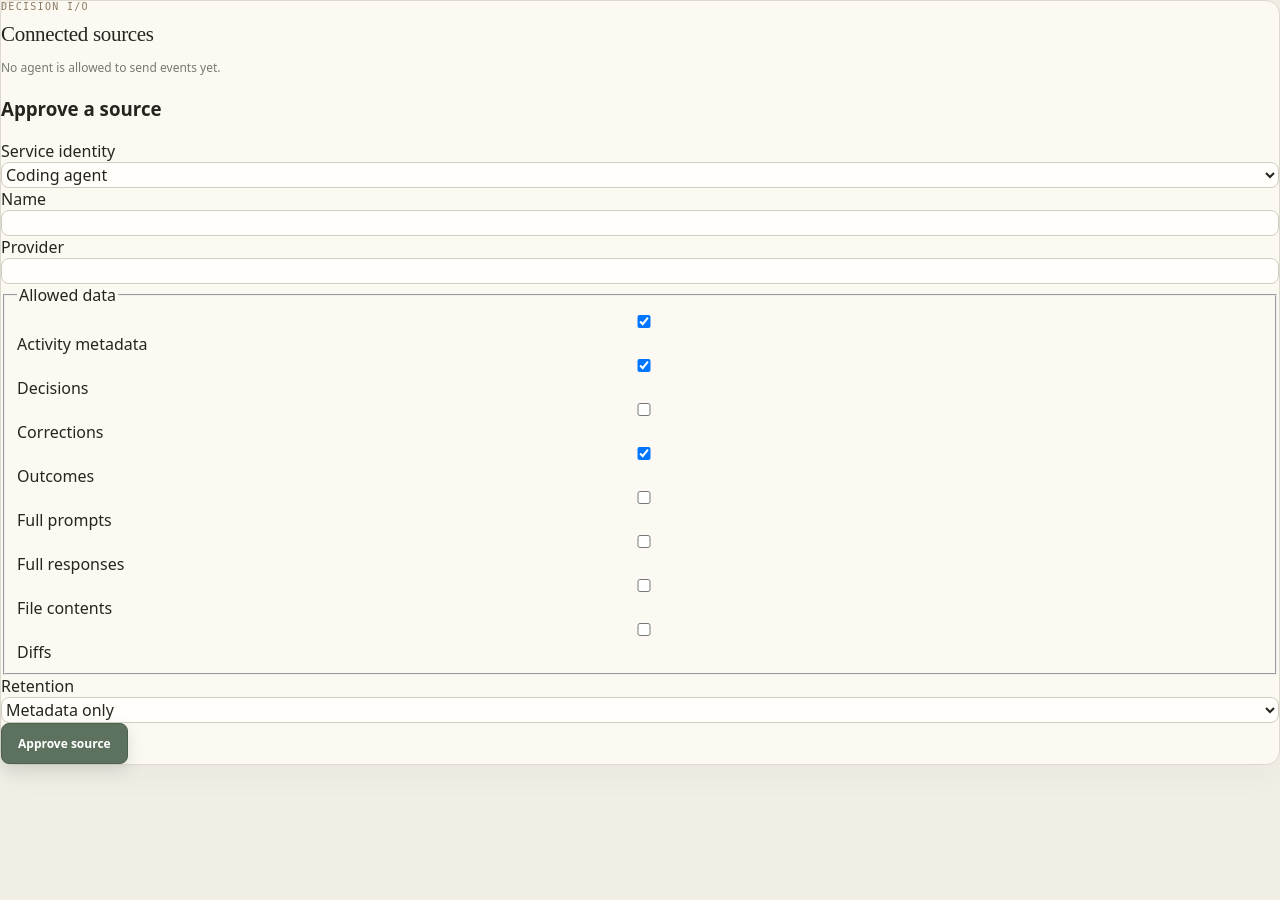
Test: Decision I/O sources panel › shows the daemon's reason when approval is refused
The image size is (1280, 900).
Expected: the text "No agent is allowed to send events yet." is shown, [1, 59, 220, 76]
Note: the owner submits the form
Type "A" into the field labelled "Name" at (640, 223), box [1, 210, 1279, 236]
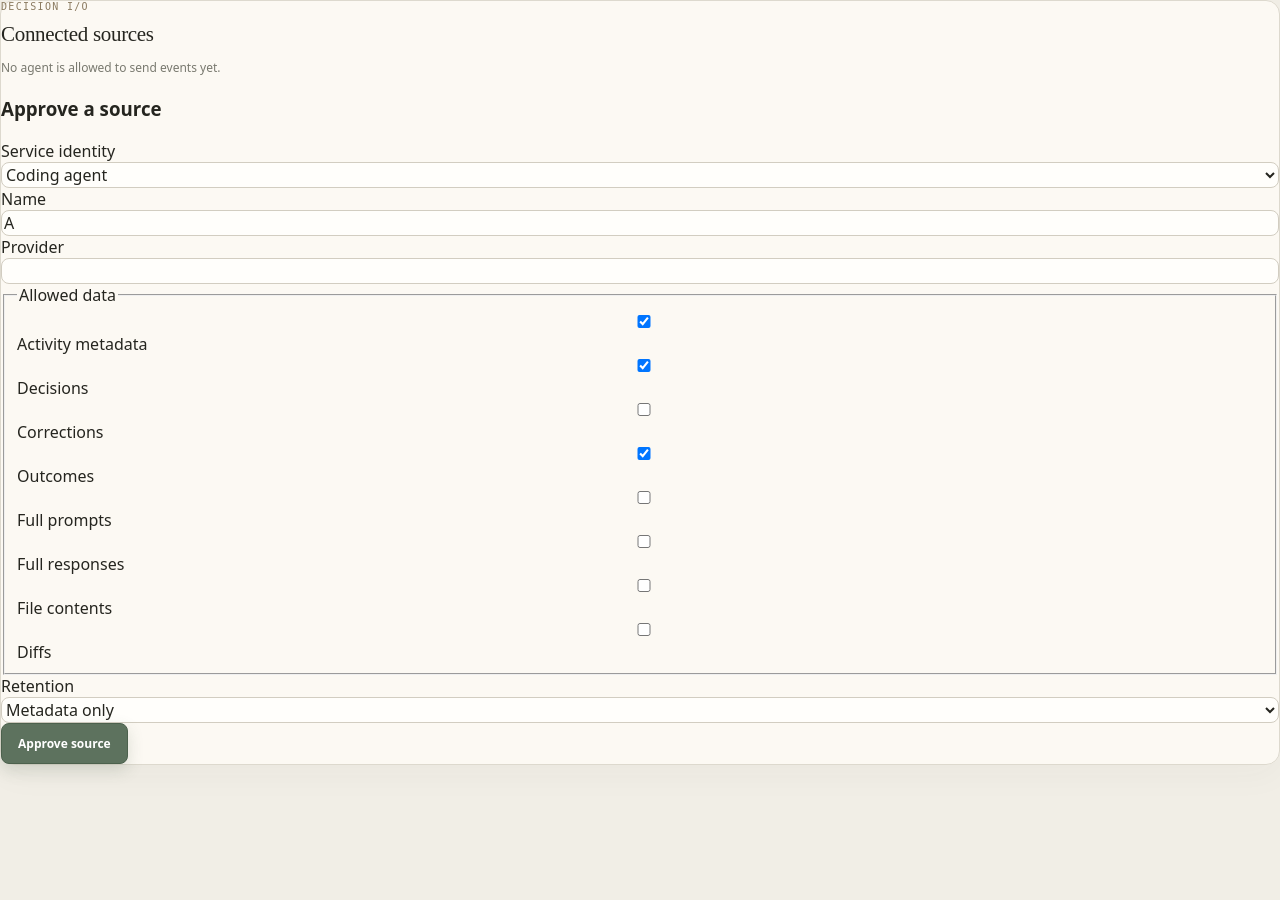
Type "b" into the field labelled "Provider" at (640, 271), box [1, 258, 1279, 284]
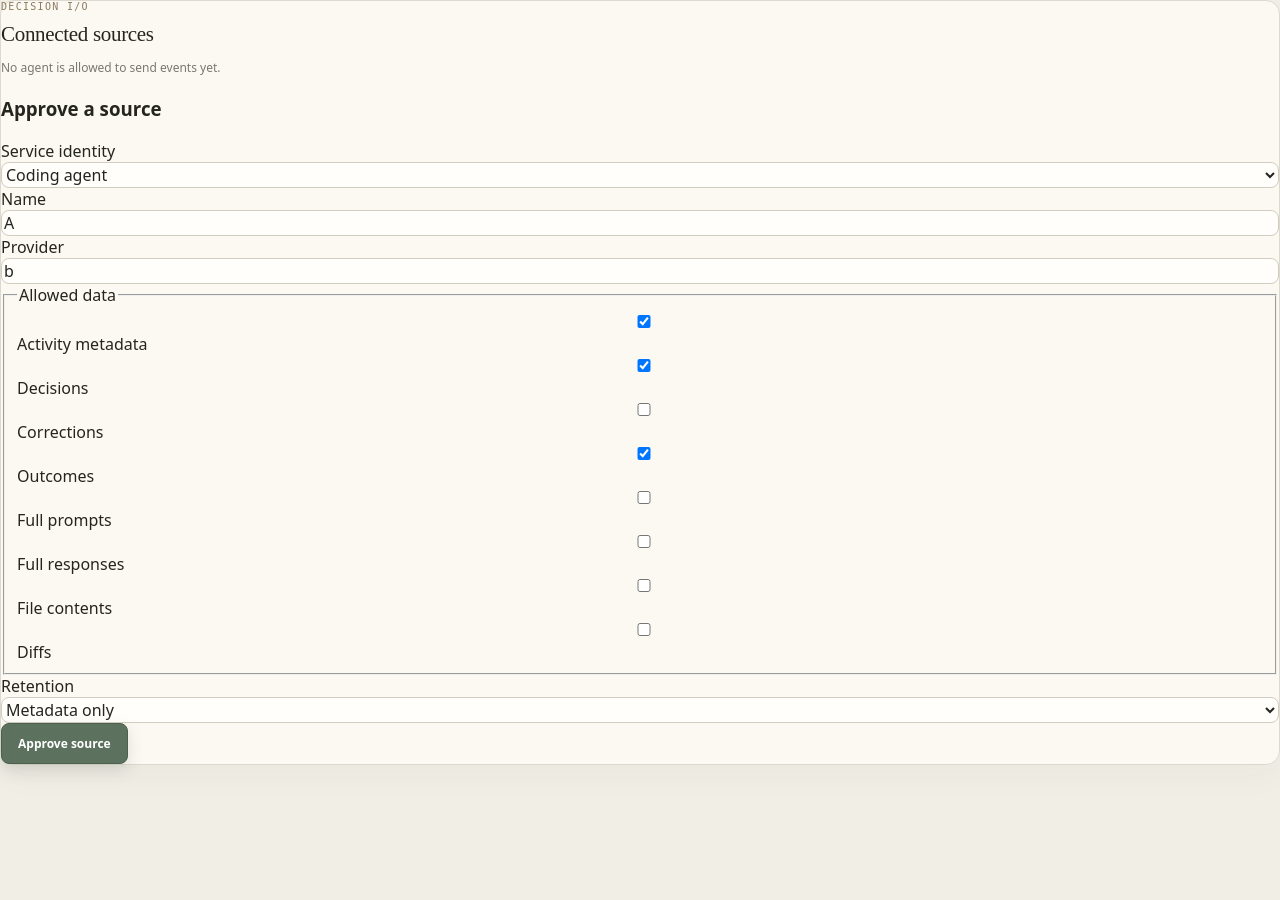
Click the button "Approve source" at (64, 744), box [1, 723, 128, 764]
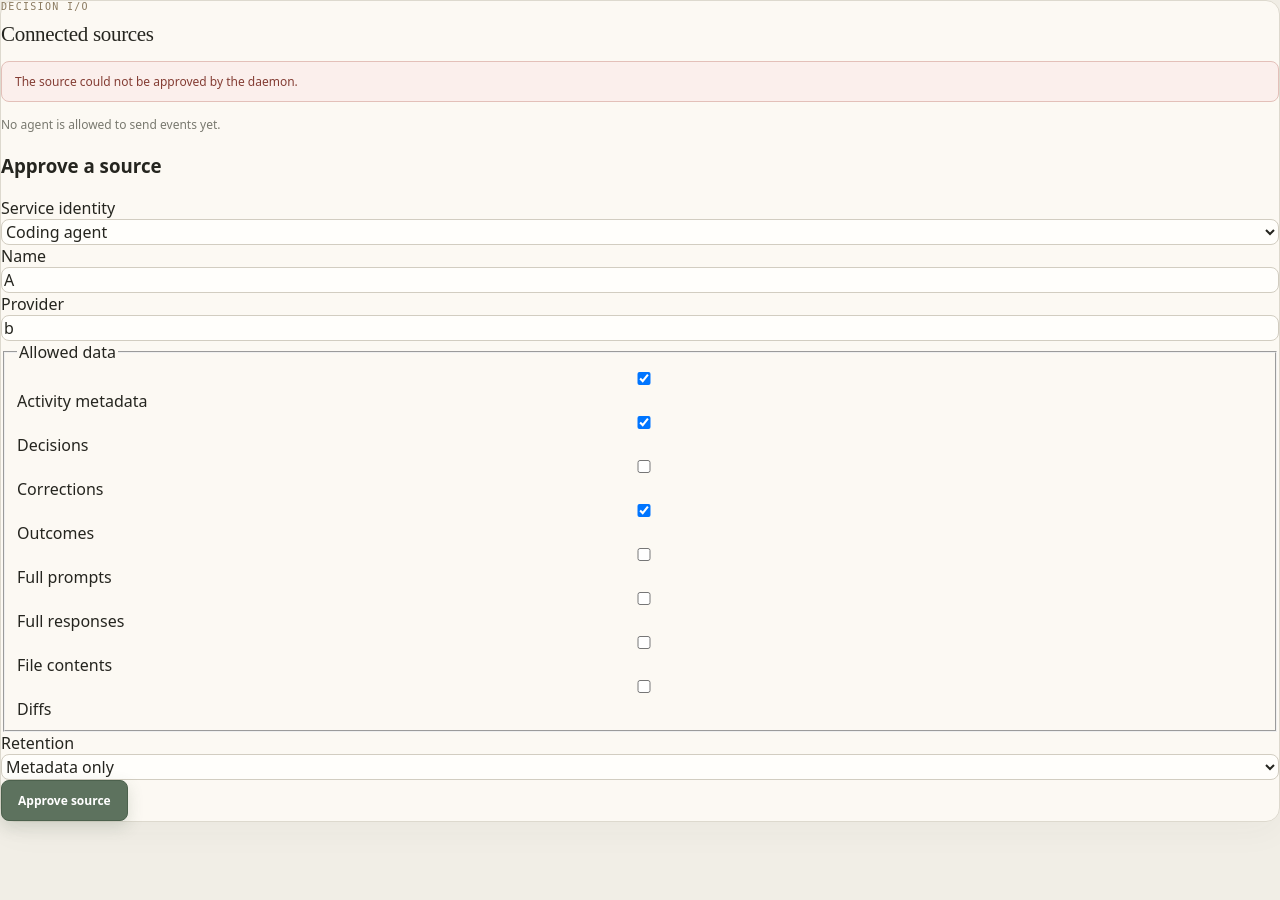
Now the text "The source could not be approved by the daemon." is shown, box [1, 61, 1279, 102]
